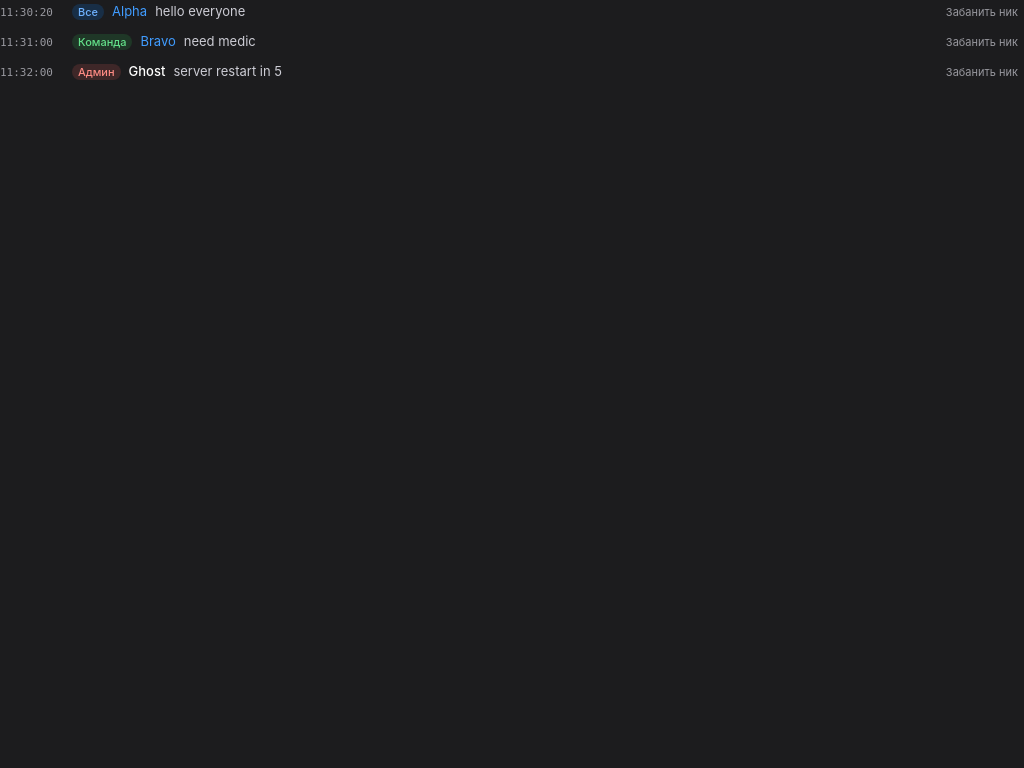
ChatMessageList — BANNAME-3 ban button gating + prefill › shows a «Забанить ник» button per row when canBan=true, prefilling the modal with the author name
Click the button "Забанить ник" in the row of "11:30:20" at x=982, y=12, box [940,0,1023,24]
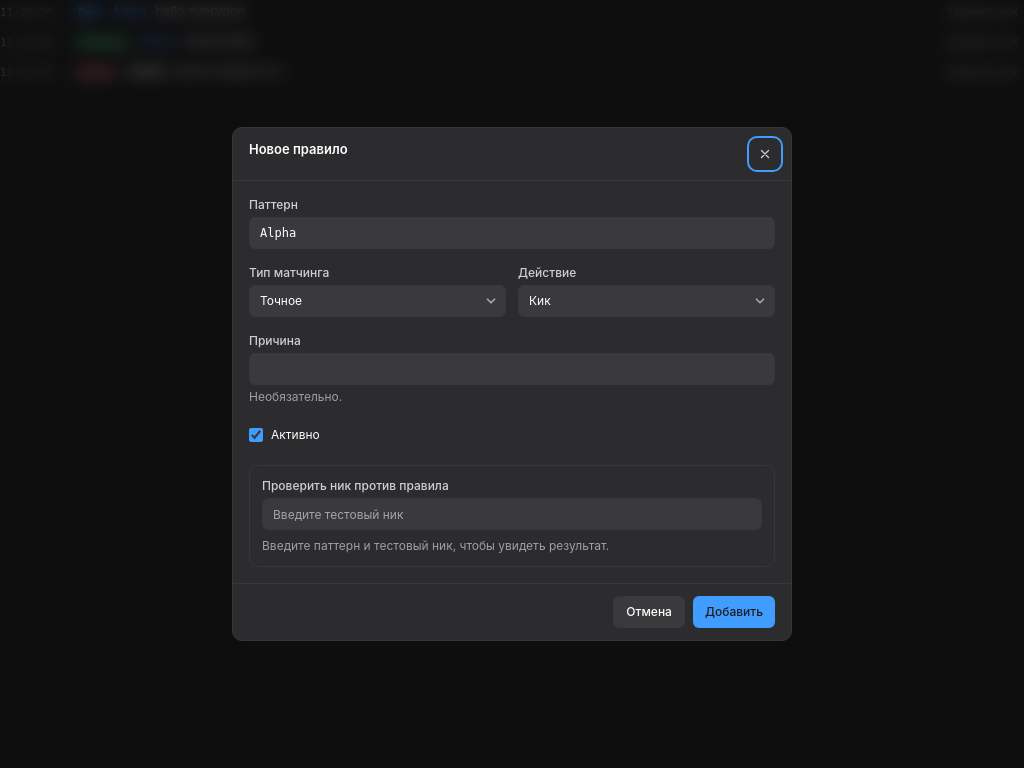
Check: the field labelled "Паттерн" holds "Alpha", box [249,217,775,249]
